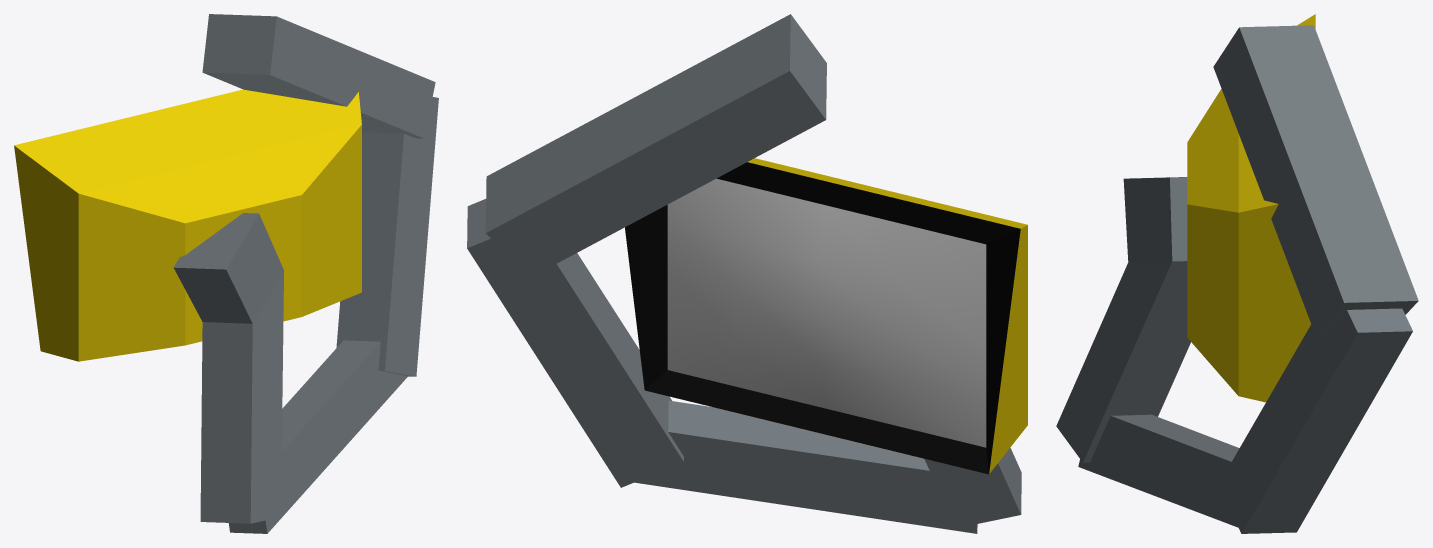
File: Controls Armature.fbx
3 renders of one model, left to right at view 1: azimuth 30°, elevation 25°; view 2: azimuth 150°, elevation 25°; view 3: azimuth 270°, elevation 25°, orthographic. The views are drawn at different scales.
Visible parts, largest first — view 1: CRT Frame.001, Upper Arm.001, Lower Arm.001, Base Arm.001, Mid Arm.001; view 2: CRT Screen Arm.001, Base Arm.001, CRT Frame.001, Lower Arm.001, Mid Arm.001, Upper Arm.001; view 3: Base Arm.001, CRT Frame.001, Lower Arm.001, Upper Arm.001, Mid Arm.001.
Boxes of the visible parts, bbox=[...] form: CRT Frame.001: bbox=[14, 89, 361, 361]; Upper Arm.001: bbox=[173, 213, 283, 523]; Lower Arm.001: bbox=[336, 97, 438, 376]; Base Arm.001: bbox=[202, 14, 435, 138]; Mid Arm.001: bbox=[228, 340, 407, 533]; CRT Screen Arm.001: bbox=[667, 178, 986, 447]; Base Arm.001: bbox=[485, 14, 826, 277]; CRT Frame.001: bbox=[625, 158, 1027, 474]; Lower Arm.001: bbox=[467, 199, 683, 487]; Mid Arm.001: bbox=[634, 400, 977, 533]; Upper Arm.001: bbox=[924, 447, 1021, 528]; Base Arm.001: bbox=[1213, 25, 1418, 333]; CRT Frame.001: bbox=[1187, 14, 1315, 402]; Lower Arm.001: bbox=[1218, 308, 1412, 533]; Upper Arm.001: bbox=[1056, 177, 1190, 462]; Mid Arm.001: bbox=[1078, 414, 1239, 527].
Bounding box in the file's own units: 0.8629 × 0.8377 × 0.5587.
